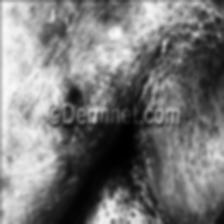Potentially Malignant Skin Tumors: (61, 84, 90, 136)
